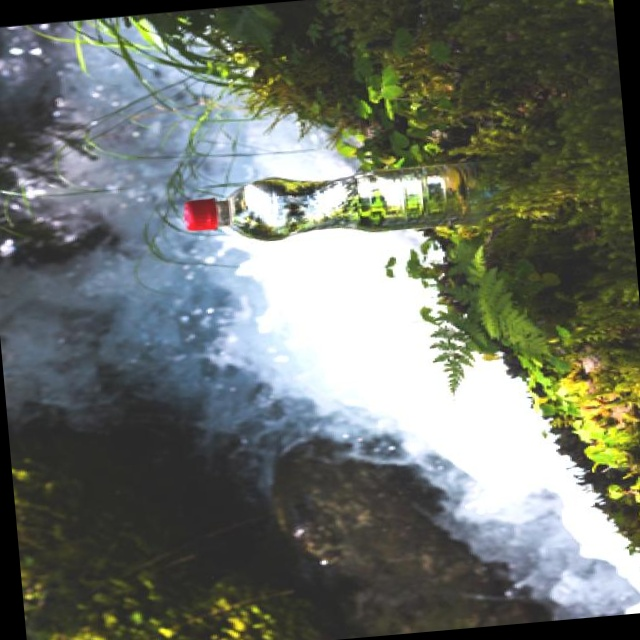Plastic-bottle: (183, 162, 532, 246)
